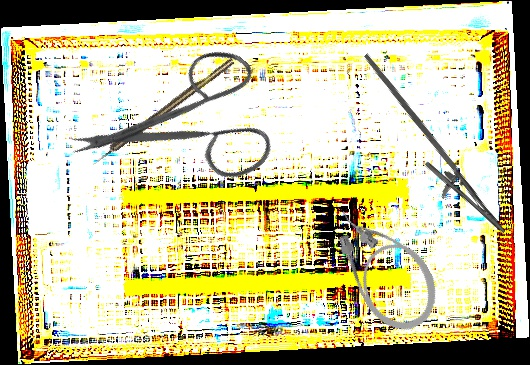Cannula: (321, 188, 451, 343)
Hook Surgical: (89, 57, 236, 167)
Iris Scissors: (64, 7, 306, 252)
Needle Holder: (331, 52, 527, 247)
